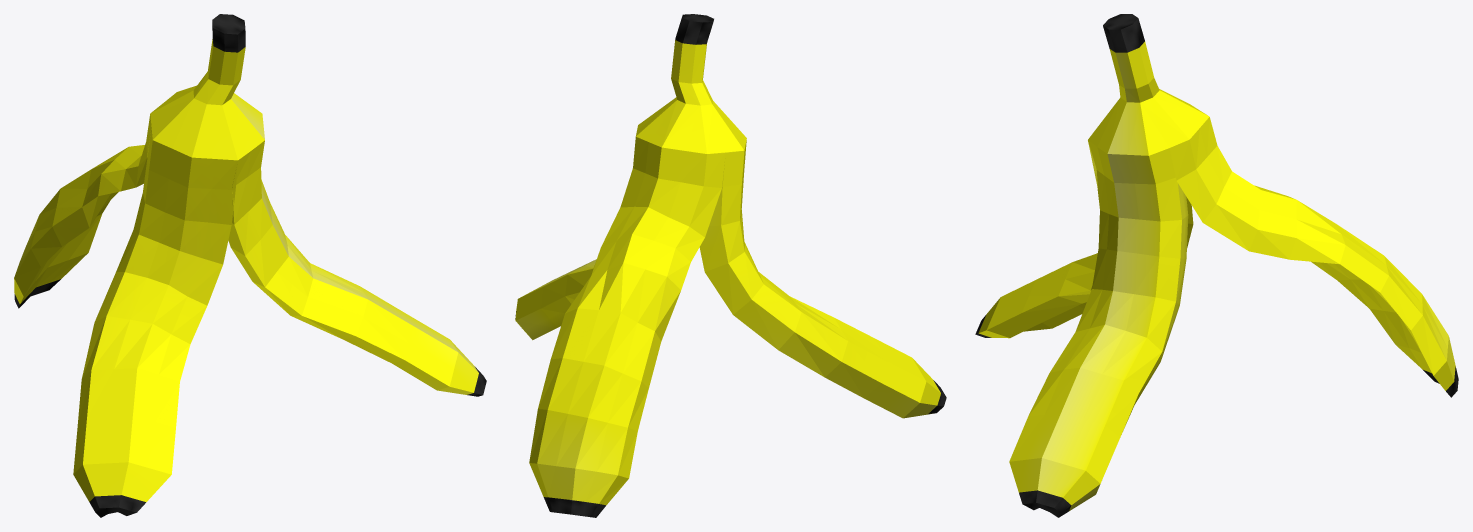
File: Banana.fbx
The picture shows the model from 3 angles, left to right: view 1: azimuth 30°, elevation 25°; view 2: azimuth 150°, elevation 25°; view 3: azimuth 270°, elevation 25°; orthographic projection. The views are drawn at different scales.
Visible parts, largest first — view 1: Cube; view 2: Cube; view 3: Cube.
Boxes of the visible parts, bbox=[...] form: Cube: bbox=[14, 14, 486, 517]; Cube: bbox=[515, 14, 946, 517]; Cube: bbox=[975, 14, 1458, 517].
Size of the model in its own units: 26.29 by 24.75 by 26.67.
